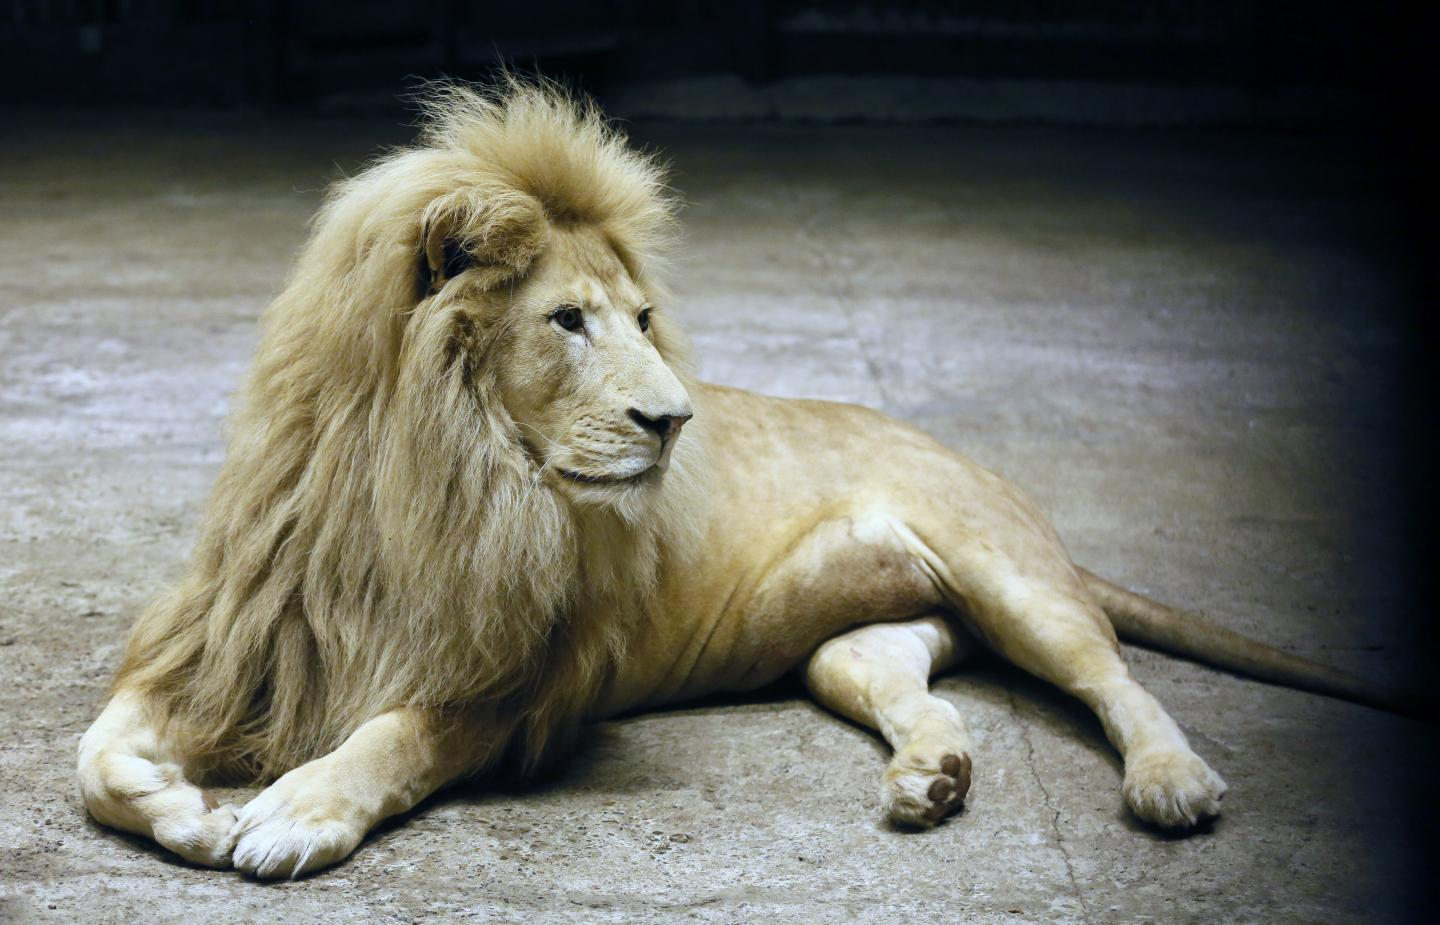lion: (69, 91, 1247, 862)
